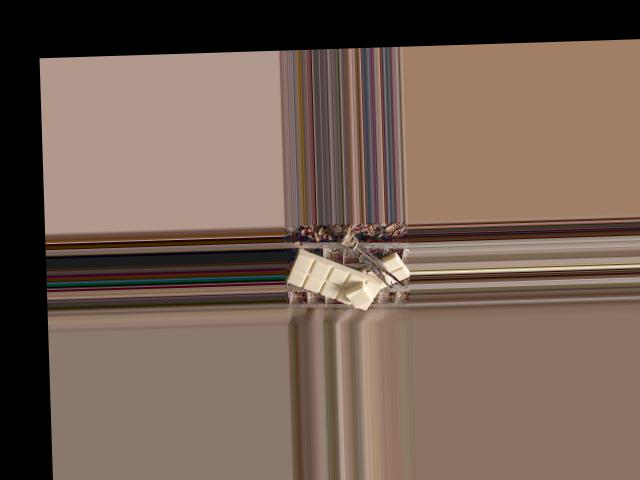chocolate: (287, 248, 385, 311)
